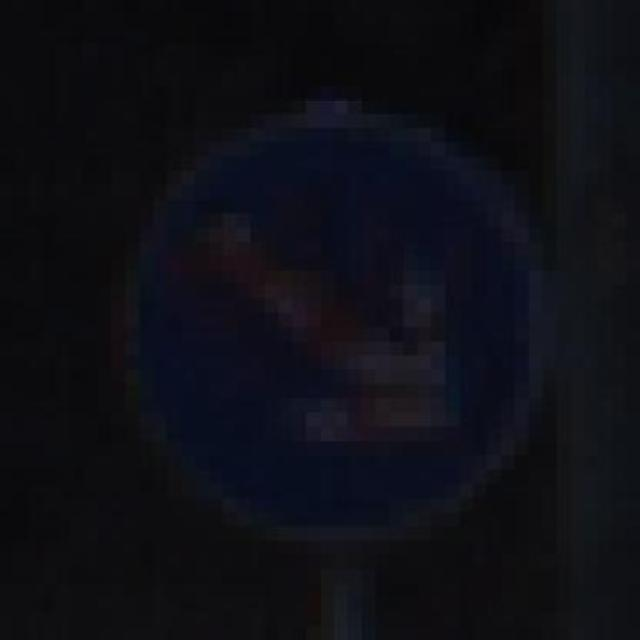Keep-Right: (97, 99, 585, 584)
